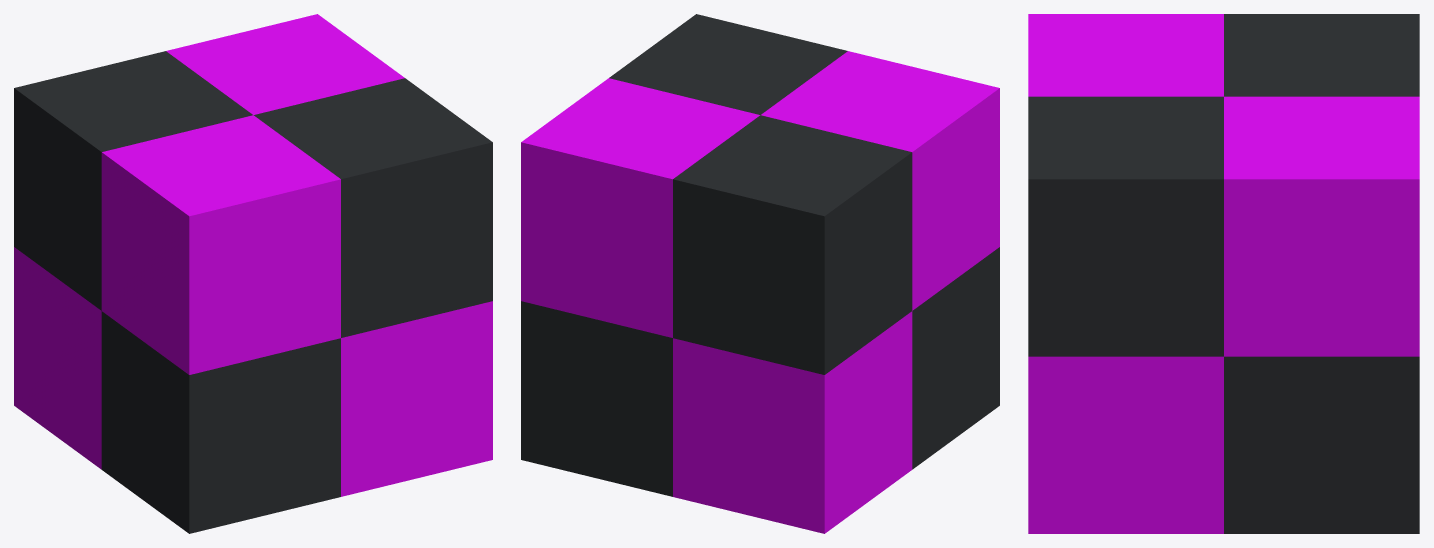
Rendered from tinker.obj.
3 views of the same model, side by side, from view 1: azimuth 30°, elevation 25°; view 2: azimuth 150°, elevation 25°; view 3: azimuth 270°, elevation 25° (orthographic). The views are drawn at different scales.
Visible parts, largest first — view 1: group_0_15074815, group_0_2829873; view 2: group_0_2829873, group_0_15074815; view 3: group_0_2829873, group_0_15074815.
Part boxes in pixels (box(x1,y1,x2,y2)): group_0_15074815: box(14, 14, 492, 496); group_0_2829873: box(14, 51, 492, 533); group_0_2829873: box(521, 14, 999, 496); group_0_15074815: box(521, 51, 999, 533); group_0_2829873: box(1028, 14, 1419, 533); group_0_15074815: box(1028, 14, 1419, 533).
Size of the model in its own units: 40 by 40 by 40.
